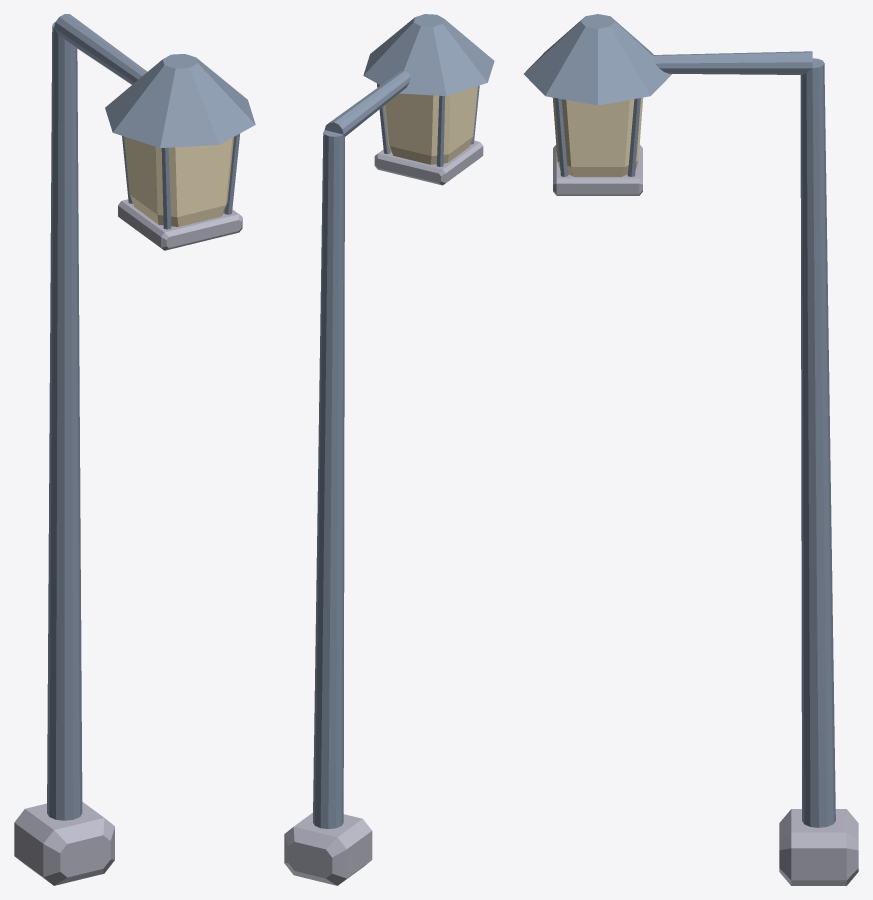
Rendered from HK_StreetLamp.glb.
3 renders of one model, left to right at view 1: azimuth 30°, elevation 25°; view 2: azimuth 150°, elevation 25°; view 3: azimuth 270°, elevation 25°, orthographic. The views are drawn at different scales.
Visible parts, largest first — view 1: HK_StreetLamp_BodyMain; view 2: HK_StreetLamp_BodyMain; view 3: HK_StreetLamp_BodyMain.
Part boxes in pixels (x1=…): HK_StreetLamp_BodyMain: x1=14, y1=14, x2=255, y2=885; HK_StreetLamp_BodyMain: x1=284, y1=14, x2=494, y2=885; HK_StreetLamp_BodyMain: x1=524, y1=14, x2=858, y2=885.
Bounding box in the file's own units: 0.81 × 5.11 × 1.82.
